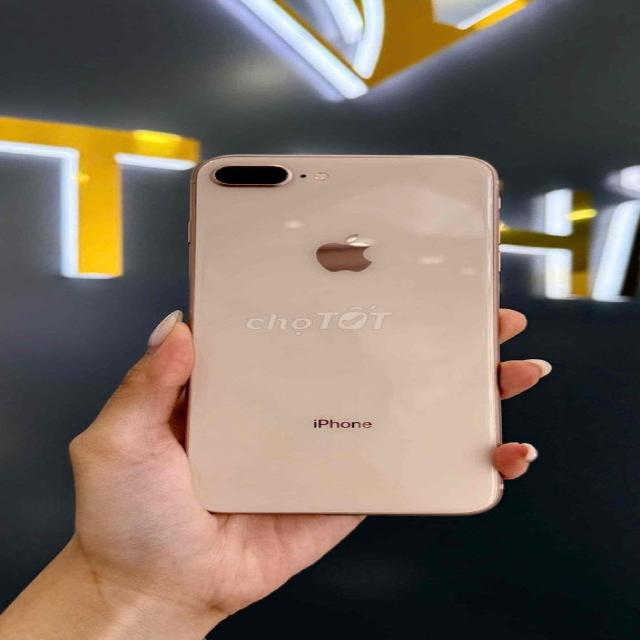gen_7_8: (187, 154, 501, 514)
